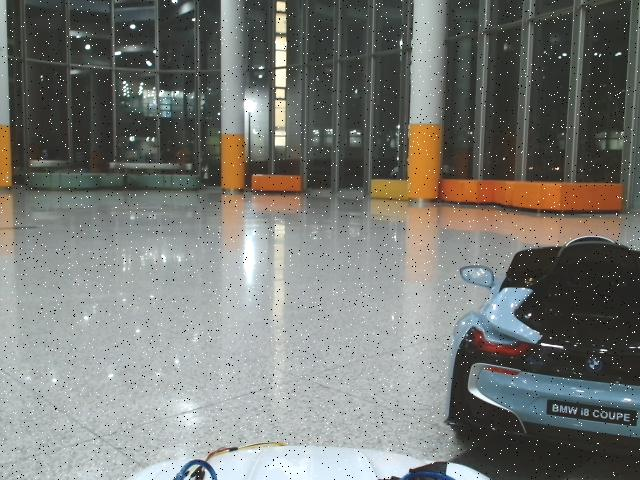car: (442, 235, 640, 454)
